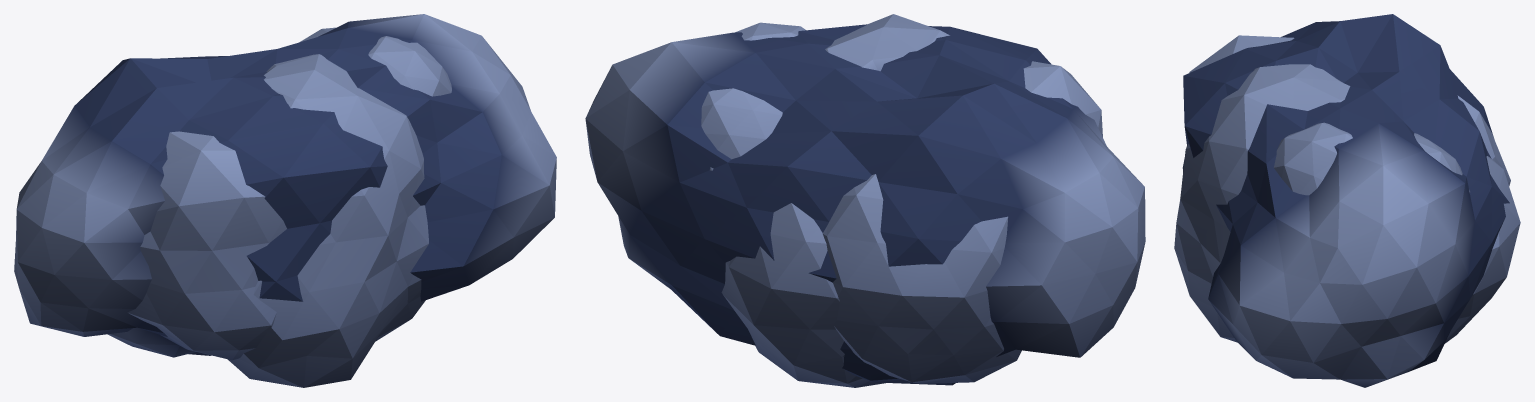
The model's file is asteroides-cosmos.glb.
3 renders of one model, left to right at view 1: azimuth 30°, elevation 25°; view 2: azimuth 150°, elevation 25°; view 3: azimuth 270°, elevation 25°, orthographic. The views are drawn at different scales.
Visible parts, largest first — view 1: Asteroide B, Asteroide A, Asteroide C; view 2: Asteroide B, Asteroide C, Asteroide A; view 3: Asteroide B, Asteroide A, Asteroide C.
Part boxes in pixels (box(x1,y1,x2,y2)): Asteroide B: box(14, 14, 556, 355); Asteroide A: box(228, 54, 428, 387); Asteroide C: box(108, 27, 451, 360); Asteroide B: box(585, 24, 1145, 385); Asteroide C: box(701, 22, 1102, 383); Asteroide A: box(721, 14, 949, 387); Asteroide B: box(1182, 14, 1509, 387); Asteroide A: box(1174, 64, 1520, 343); Asteroide C: box(1189, 35, 1510, 195).
Size of the model in its own units: 1.6 by 0.8886 by 0.9918.
